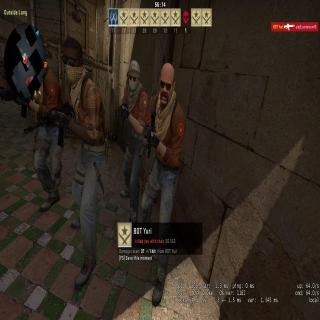T-Body: (60, 39, 105, 270), (144, 54, 183, 281), (119, 56, 148, 224), (27, 62, 62, 200)
T-Head: (157, 58, 174, 103), (65, 39, 81, 77), (128, 61, 139, 89)
